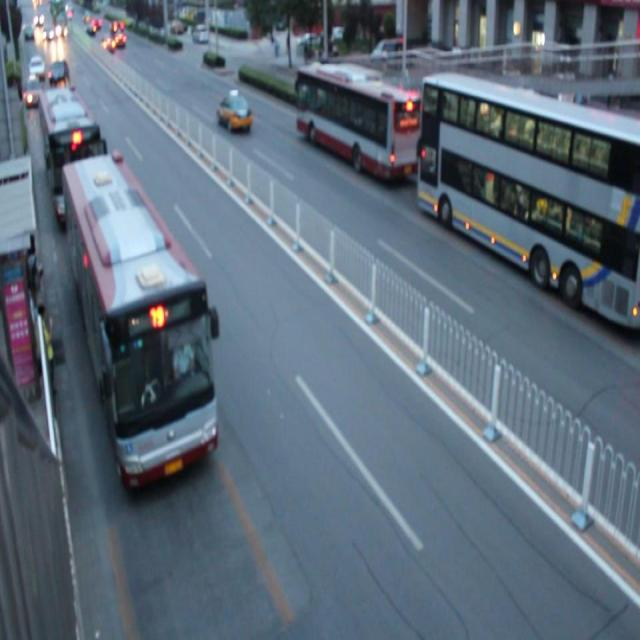car: (216, 92, 253, 136)
van: (418, 73, 640, 329), (62, 160, 214, 489), (294, 65, 424, 183), (38, 87, 106, 220)
